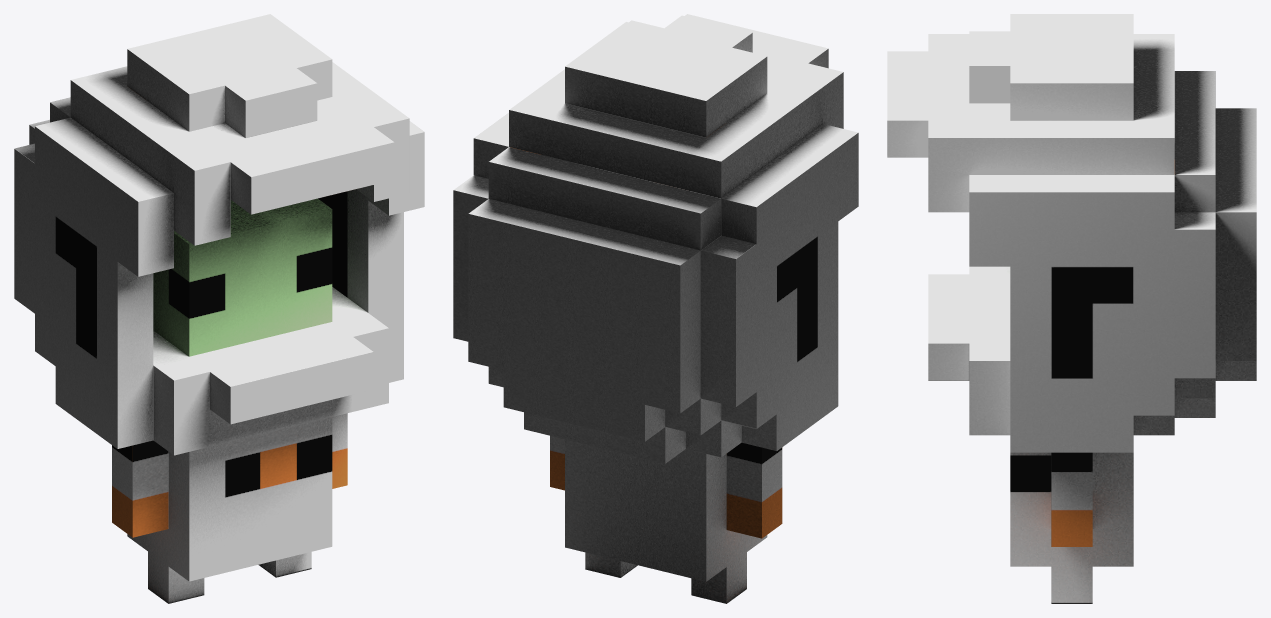
File: Astronaut.gltf
3 renders of one model, left to right at view 1: azimuth 30°, elevation 25°; view 2: azimuth 150°, elevation 25°; view 3: azimuth 270°, elevation 25°, orthographic.
Parts seen in each view (by area): view 1: ObjObject; view 2: ObjObject; view 3: ObjObject.
Boxes of the visible parts, x1,y1,x2,y2 form: ObjObject: (14,14,424,603); ObjObject: (453,14,858,603); ObjObject: (887,14,1256,603).
Bounding box in the file's own units: 0.8 × 1.4 × 0.9.
1 material, 1 textured.
